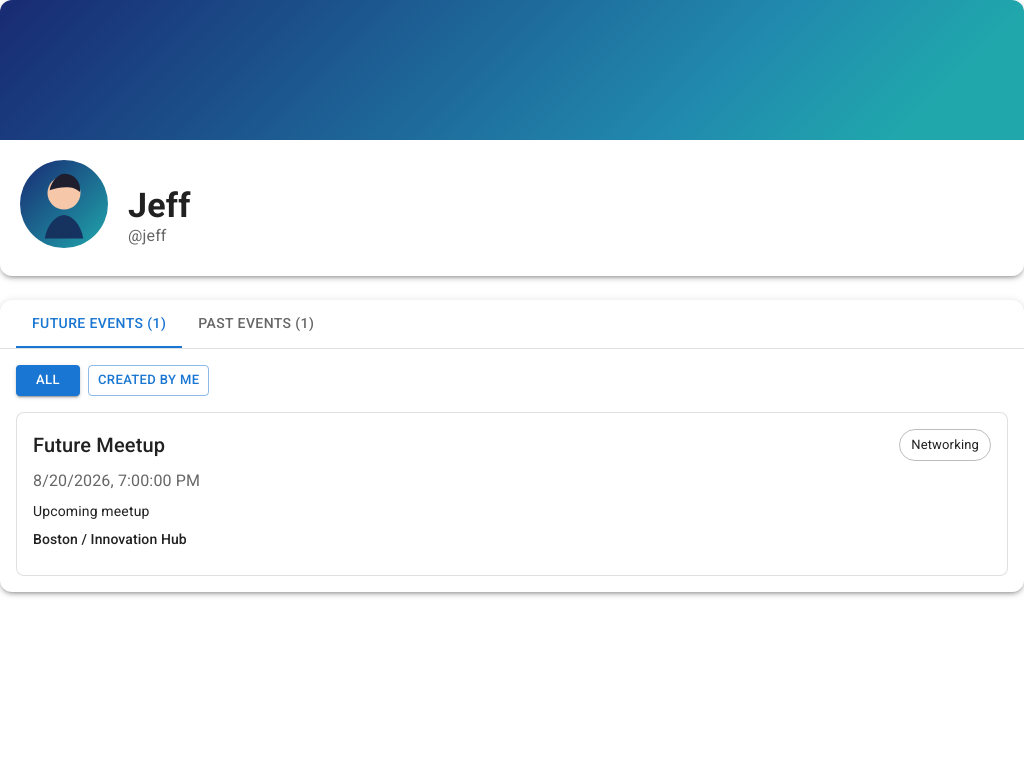
Scenario: UserProfilePage › filters to events created by profile owner
Step 1. Click the button "Created by me" → coordinates (149, 380), box top-left (88, 365), bottom-right (209, 396)
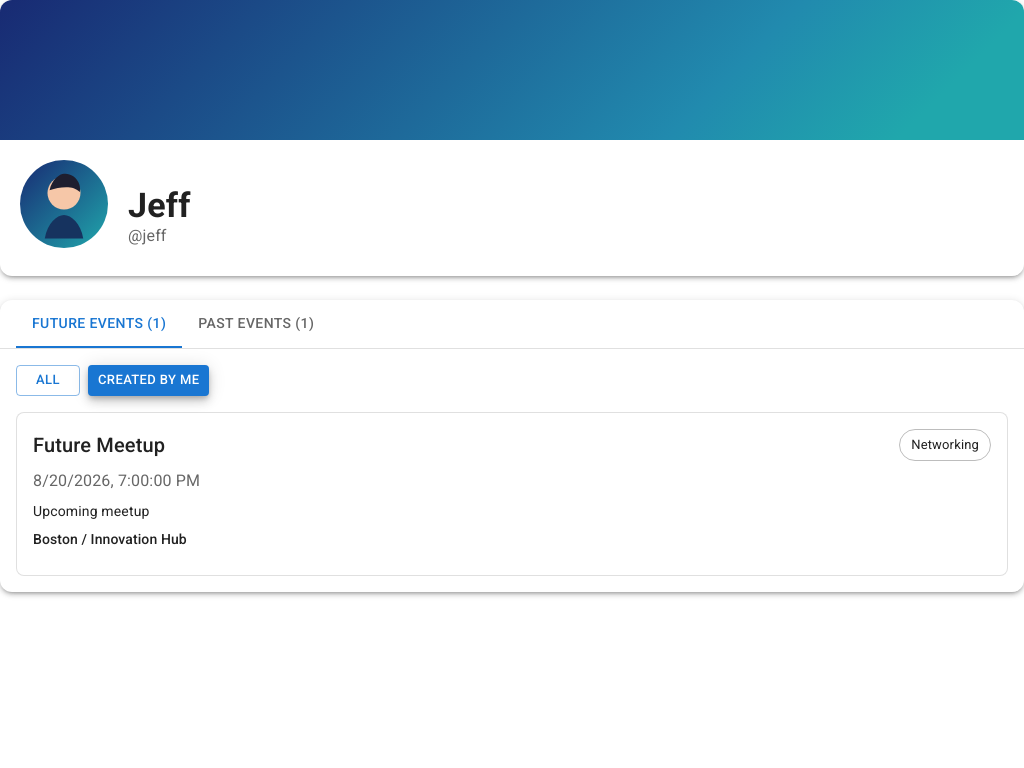
Expected: the heading "Future Meetup" is shown, top-left (33, 429), bottom-right (165, 461)
Step 2. Click the tab "Past Events (1)" → coordinates (256, 324), box top-left (182, 300), bottom-right (330, 348)
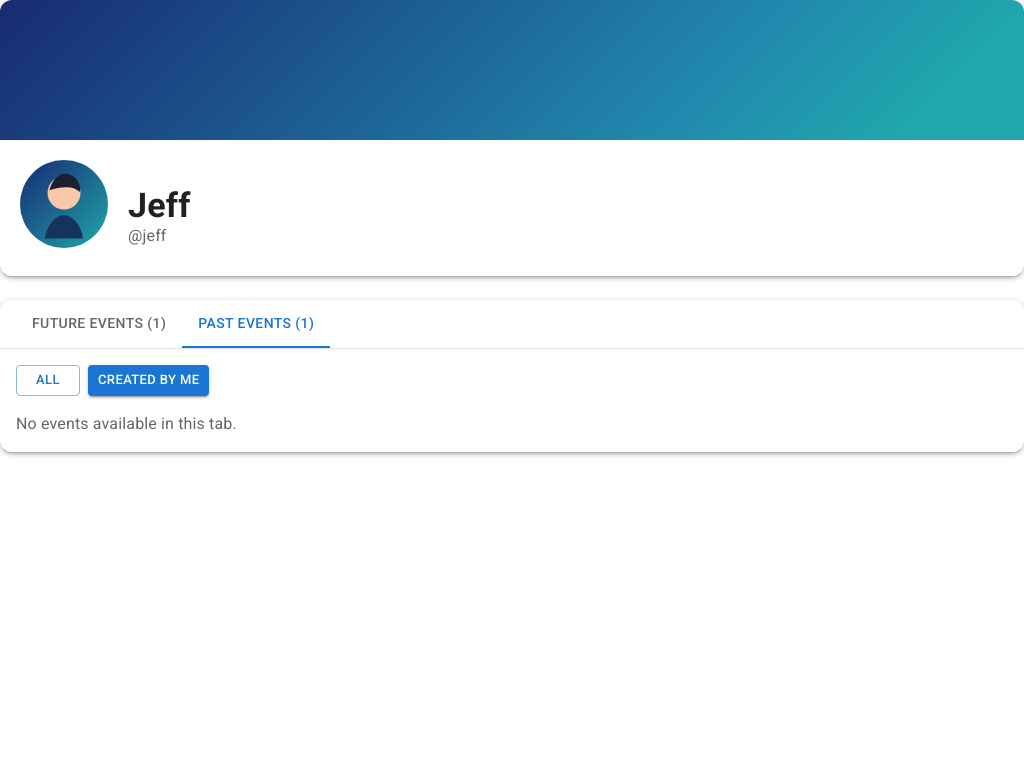
Result: the text "No events available in this tab." is shown at top-left (16, 414), bottom-right (237, 433)
